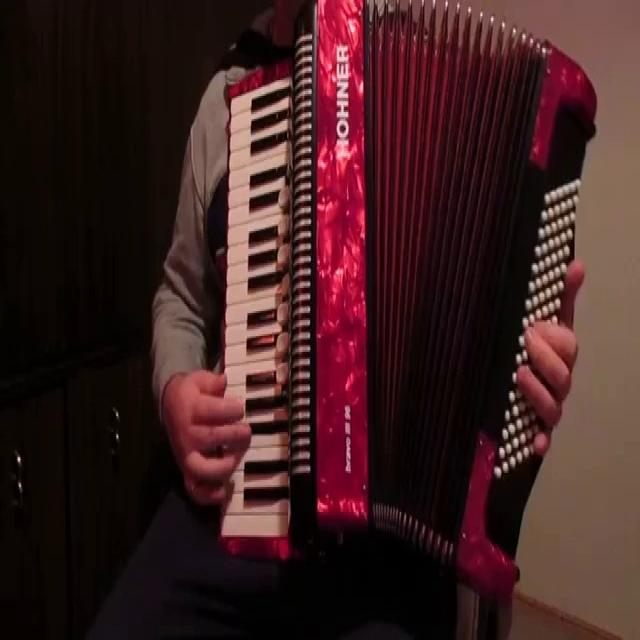Accordion: (224, 7, 574, 603)
